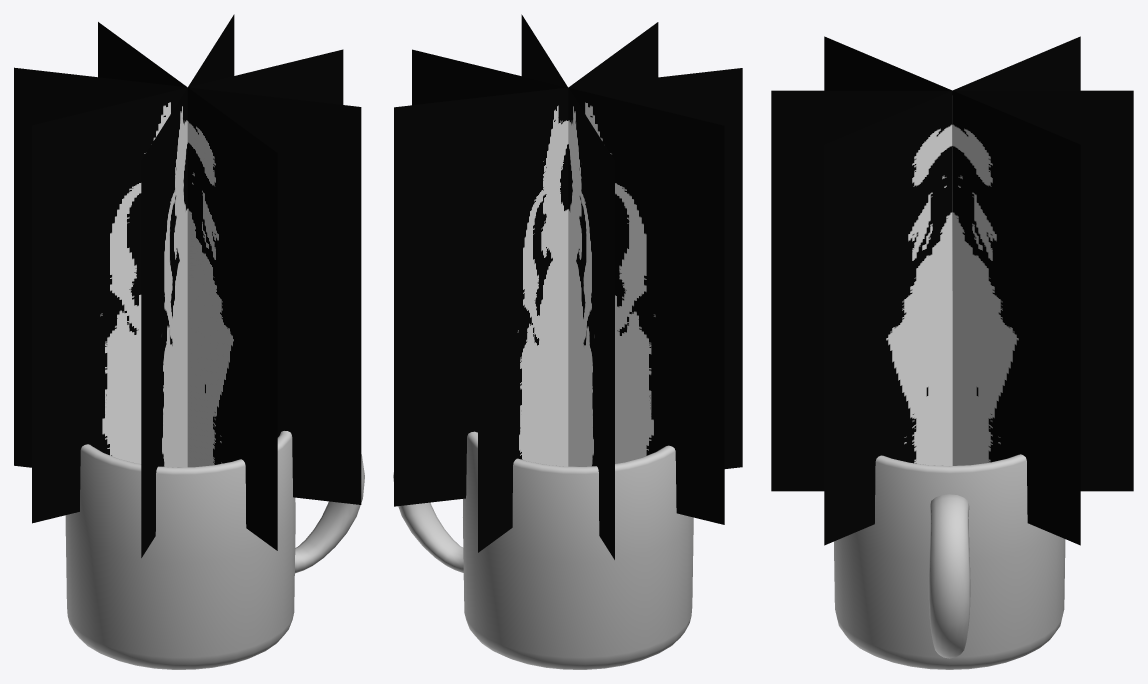
The model's file is 20_WarmDrink.fbx.
3 renders of one model, left to right at view 1: azimuth 30°, elevation 25°; view 2: azimuth 150°, elevation 25°; view 3: azimuth 270°, elevation 25°, orthographic.
Visible parts, largest first — view 1: _exportCopy_MugSteam.002, _exportCopy_MugSteam.001, _exportCopy_Mug, _exportCopy_MugSteam, _exportCopy_MugSteam.003; view 2: _exportCopy_MugSteam.003, _exportCopy_MugSteam.001, _exportCopy_Mug, _exportCopy_MugSteam, _exportCopy_MugSteam.002; view 3: _exportCopy_MugSteam.003, _exportCopy_MugSteam.002, _exportCopy_MugSteam, _exportCopy_Mug.
Part boxes in pixels (x1,y1,x2,y2): _exportCopy_MugSteam.002: (14,67,361,504); _exportCopy_MugSteam.001: (32,49,343,523); _exportCopy_Mug: (65,431,364,669); _exportCopy_MugSteam: (98,22,277,550); _exportCopy_MugSteam.003: (141,14,234,557); _exportCopy_MugSteam.003: (394,68,742,506); _exportCopy_MugSteam.001: (412,49,724,524); _exportCopy_Mug: (393,431,693,669); _exportCopy_MugSteam: (478,22,658,552); _exportCopy_MugSteam.002: (521,14,614,559); _exportCopy_MugSteam.003: (824,36,1080,545); _exportCopy_MugSteam.002: (824,36,1080,545); _exportCopy_MugSteam: (771,90,1133,491); _exportCopy_Mug: (834,454,1065,669).
Size of the model in its own units: 156 by 244 by 148.
